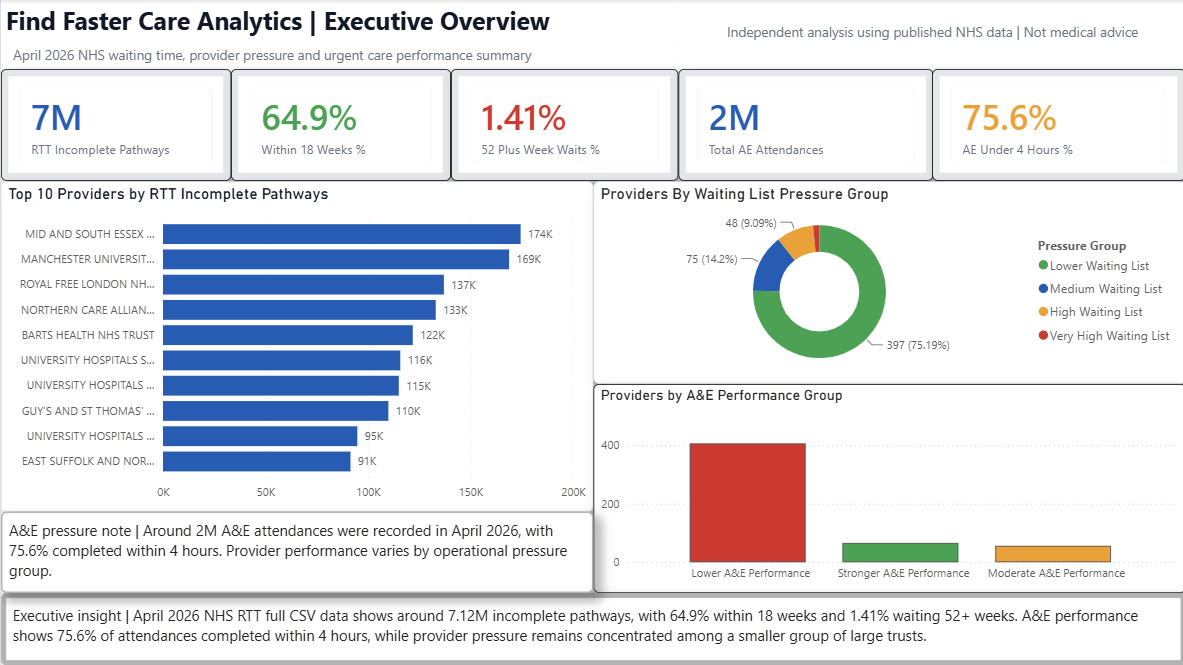

This screenshot's page, from the dashboard's own definition file:
{"tool":"powerbi","page":{"name":"Executive Overview","canvas":[1280,720],"ordinal":0},"visuals":[{"type":"textbox","box":[0,0,731.4,44.9],"z":0},{"type":"textbox","box":[0,44.9,731.4,30.9],"z":1000},{"type":"textbox","box":[731.4,0,548.9,75.8],"z":2000},{"type":"cardVisual","fields":{"Data":["Key Measures.Total Waiting List"]},"box":[0,75.8,248.5,120.7],"z":3000},{"type":"cardVisual","fields":{"Data":["Key Measures.Within 18 Weeks %"]},"box":[248.5,75.8,237.2,120.7],"z":4000},{"type":"cardVisual","fields":{"Data":["Key Measures.52 Plus Week Waits %"]},"box":[485.7,75.8,245.7,120.7],"z":5000},{"type":"cardVisual","fields":{"Data":["Key Measures.Total AE Attendances"]},"box":[731.4,75.8,275.1,120.7],"z":6000},{"type":"cardVisual","fields":{"Data":["Key Measures.AE Under 4 Hours %"]},"box":[1006.5,75.8,273.7,120.7],"z":7000},{"type":"clusteredBarChart","title":"Top 10 Providers by RTT Incomplete Pathways","fields":{"Category":["Provider Pressure.provider_name"],"Y":["Sum(Provider Pressure.total_incomplete_pathways)"]},"box":[0,197.2,640.1,356.5],"z":8000},{"type":"donutChart","title":"Providers By Waiting List Pressure Group","fields":{"Category":["Provider Pressure.waiting_list_pressure_group"],"Y":["Key Measures.Provider Count"]},"box":[640.1,197.2,640.1,218.8],"z":9000},{"type":"clusteredColumnChart","title":"Providers by A&E Performance Group","fields":{"Category":["Provider Pressure.ae_performance_group"],"Y":["Key Measures.Provider Count"]},"box":[640.1,416,640.1,225.5],"z":10000},{"type":"textbox","box":[0,641.5,1280.3,78.3],"z":11000},{"type":"textbox","box":[0,553.7,640.1,87.8],"z":12000}]}

Visuals, with their boxes in screenshot pixels (x1, y1, x2, y2), scaled from the page's 1280x720 canvas onto the 1183x665 screenshot:
textbox: x1=0, y1=0, x2=676, y2=41
textbox: x1=0, y1=41, x2=676, y2=70
textbox: x1=676, y1=0, x2=1182, y2=70
cardVisual - Key Measures.Total Waiting List: x1=0, y1=70, x2=230, y2=181
cardVisual - Key Measures.Within 18 Weeks %: x1=230, y1=70, x2=449, y2=181
cardVisual - Key Measures.52 Plus Week Waits %: x1=449, y1=70, x2=676, y2=181
cardVisual - Key Measures.Total AE Attendances: x1=676, y1=70, x2=930, y2=181
cardVisual - Key Measures.AE Under 4 Hours %: x1=930, y1=70, x2=1182, y2=181
"Top 10 Providers by RTT Incomplete Pathways" clusteredBarChart: x1=0, y1=182, x2=592, y2=511
"Providers By Waiting List Pressure Group" donutChart: x1=592, y1=182, x2=1182, y2=384
"Providers by A&E Performance Group" clusteredColumnChart: x1=592, y1=384, x2=1182, y2=592
textbox: x1=0, y1=592, x2=1182, y2=664
textbox: x1=0, y1=511, x2=592, y2=592
